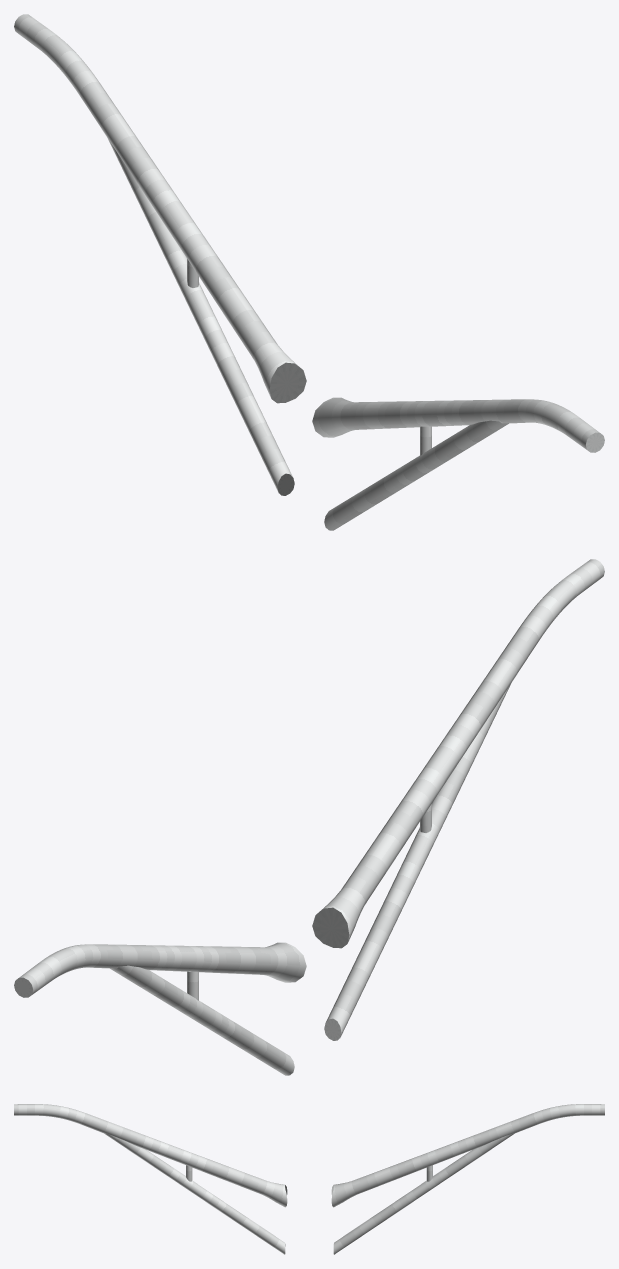
File: luminairearm_truss10ftstraightdouble_inv.obj
3 views of the same model, one above another, from view 1: azimuth 30°, elevation 25°; view 2: azimuth 150°, elevation 25°; view 3: azimuth 270°, elevation 25° (orthographic). The views are drawn at different scales.
Visible parts, largest first — view 1: luminairearm_truss10ftstraightdouble_inv; view 2: luminairearm_truss10ftstraightdouble_inv; view 3: luminairearm_truss10ftstraightdouble_inv.
Boxes of the visible parts, left/top/right/bottom form: luminairearm_truss10ftstraightdouble_inv: left=14, top=14, right=604, bottom=530; luminairearm_truss10ftstraightdouble_inv: left=14, top=559, right=604, bottom=1075; luminairearm_truss10ftstraightdouble_inv: left=14, top=1104, right=604, bottom=1254.
Bounding box in the file's own units: 0.0375 × 0.28 × 1.
